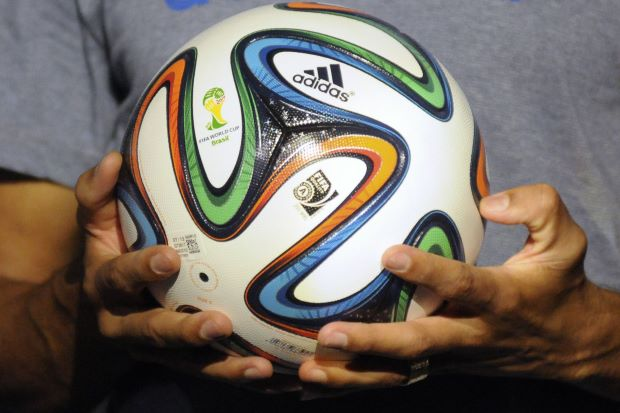football: (116, 2, 500, 368)
